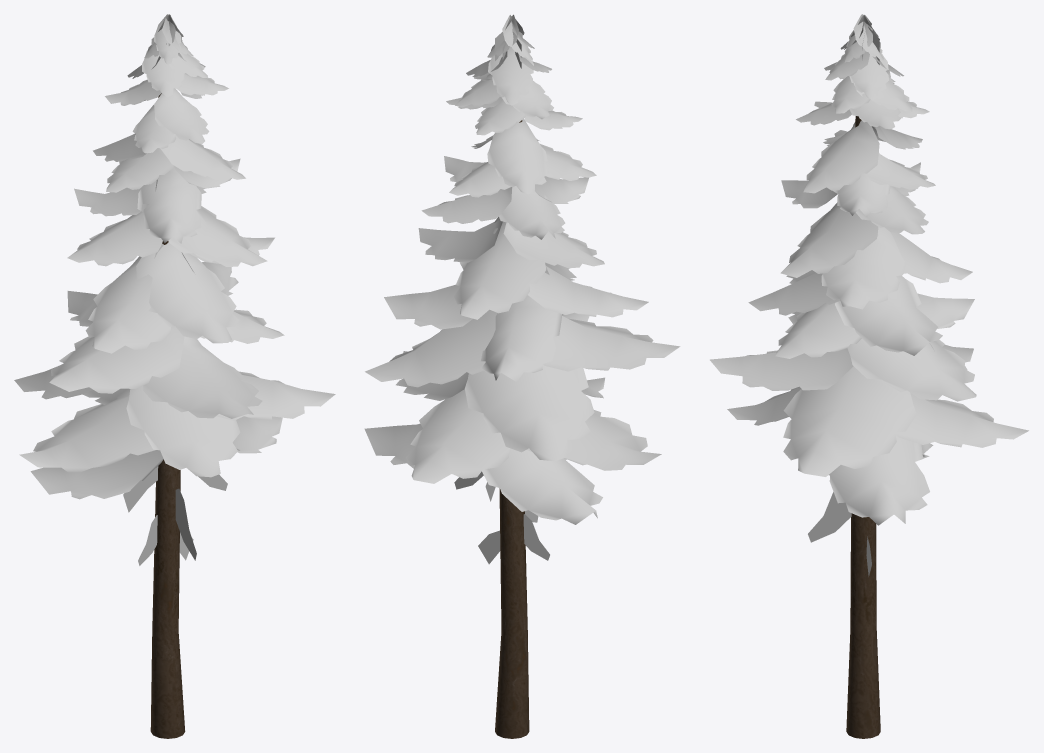
Rendered from PineTree_2_LOD.fbx.
3 renders of one model, left to right at view 1: azimuth 30°, elevation 25°; view 2: azimuth 150°, elevation 25°; view 3: azimuth 270°, elevation 25°, orthographic.
Visible parts, largest first — view 1: TreeLeaves_2_LOD0, TreeTrunk_2_LOD0; view 2: TreeLeaves_2_LOD0, TreeTrunk_2_LOD0; view 3: TreeLeaves_2_LOD0, TreeTrunk_2_LOD0.
Boxes of the visible parts, <box> form: TreeLeaves_2_LOD0: <box>14,14,335,565</box>; TreeTrunk_2_LOD0: <box>150,93,185,738</box>; TreeLeaves_2_LOD0: <box>364,14,680,564</box>; TreeTrunk_2_LOD0: <box>495,120,529,738</box>; TreeLeaves_2_LOD0: <box>710,14,1028,576</box>; TreeTrunk_2_LOD0: <box>846,116,880,738</box>.
Size of what is drawn, in the model's own units: 372 by 887 by 359.
